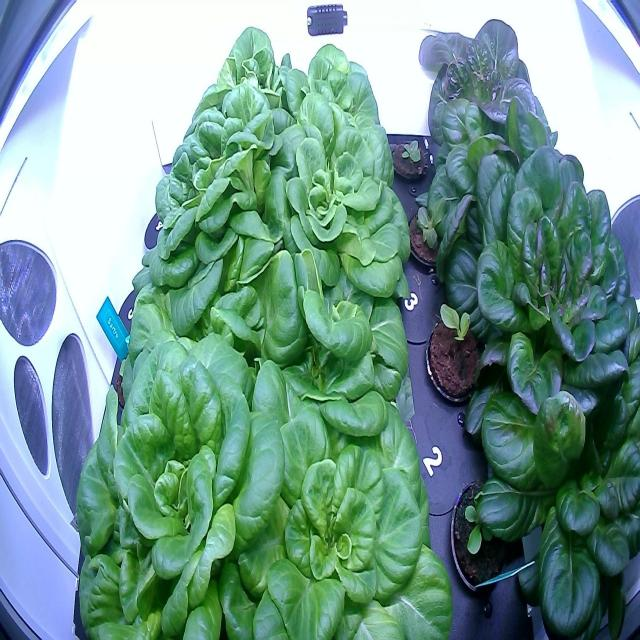Ready: (62, 326, 287, 640), (229, 374, 458, 639), (127, 95, 283, 355), (262, 96, 418, 306), (259, 245, 417, 444), (270, 38, 398, 201), (177, 13, 306, 160)
young: (445, 477, 519, 605), (420, 293, 492, 409), (402, 187, 456, 276), (386, 121, 435, 193)
